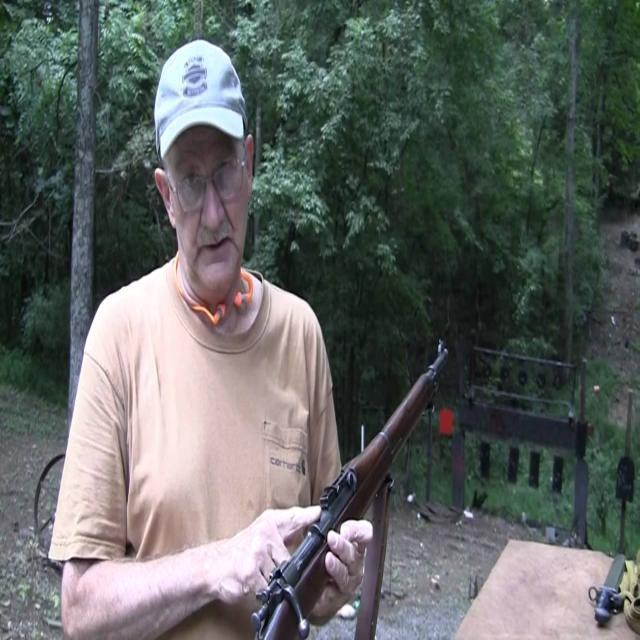Rifle: (254, 336, 454, 640)
